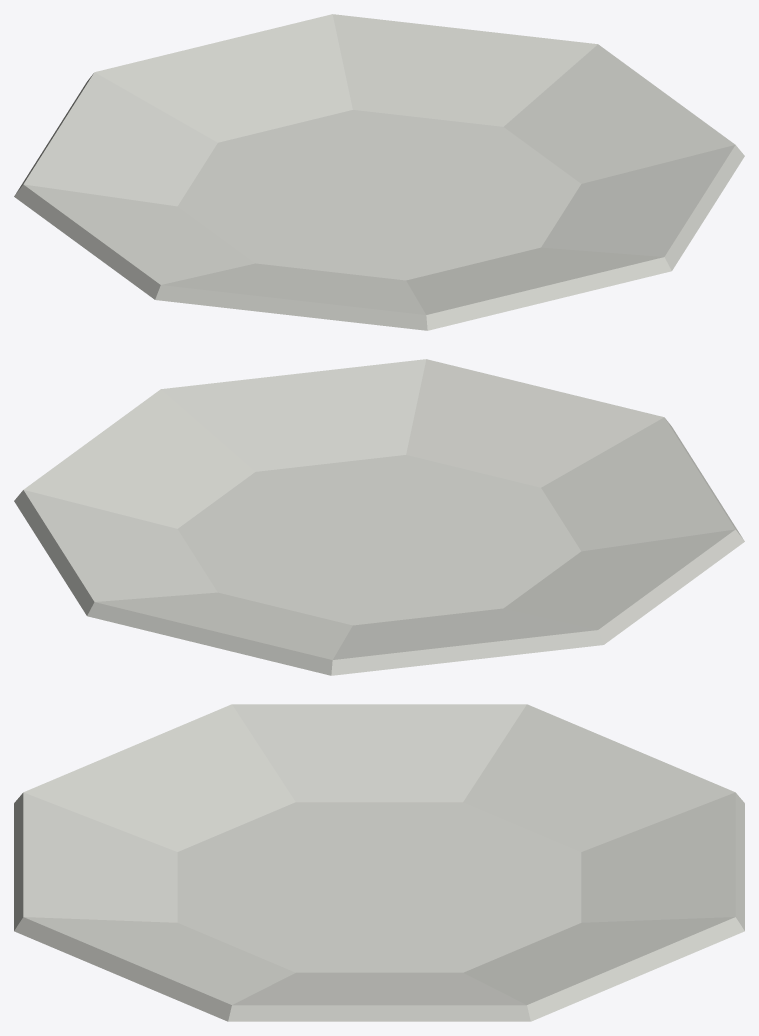
Rendered from Plate_01.FBX.
3 views of the same model, one above another, from view 1: azimuth 30°, elevation 25°; view 2: azimuth 150°, elevation 25°; view 3: azimuth 270°, elevation 25° (orthographic). The views are drawn at different scales.
Parts seen in each view (by area): view 1: Plate_01; view 2: Plate_01; view 3: Plate_01.
Part boxes in pixels (<box>): Plate_01: <box>14,14,744,330</box>; Plate_01: <box>14,359,744,675</box>; Plate_01: <box>14,704,744,1021</box>.
Size of the model in its own units: 40.16 by 3.32 by 40.16.
